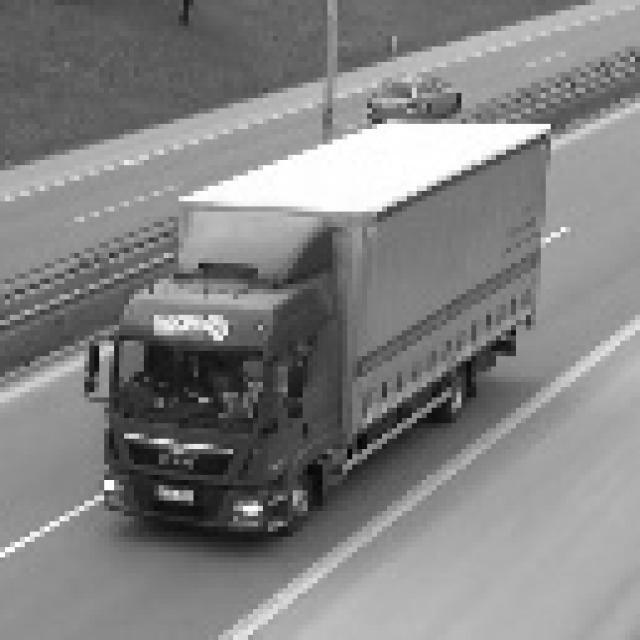truck: (76, 187, 362, 546)
